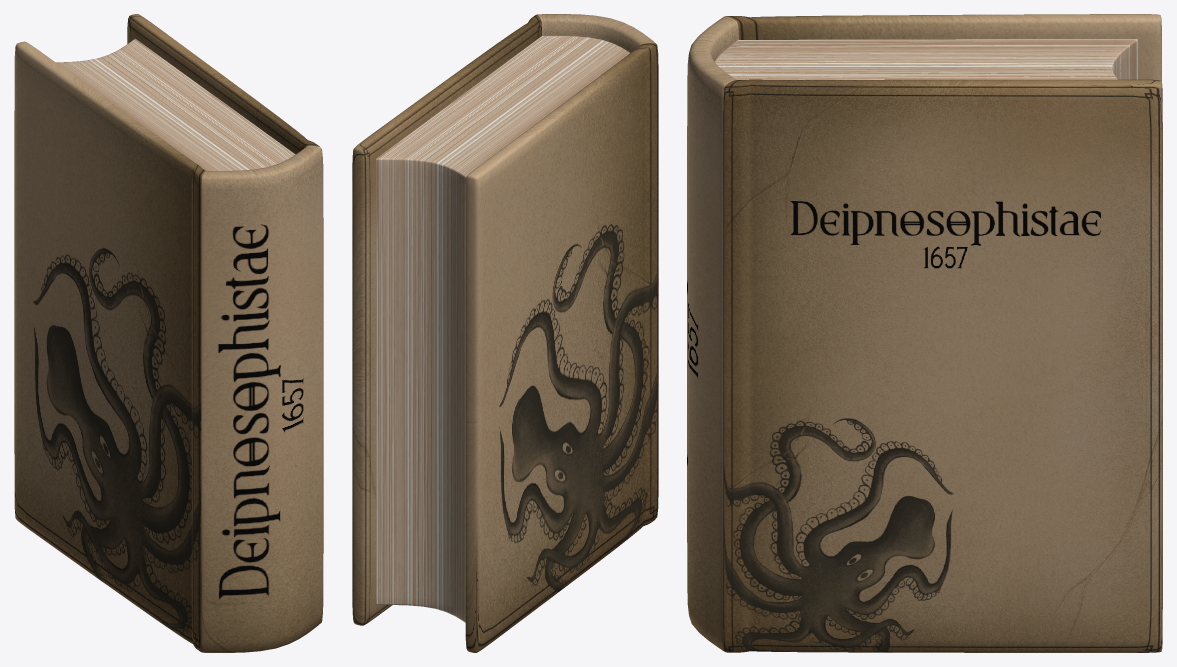
The model's file is book-7.glb.
3 renders of one model, left to right at view 1: azimuth 30°, elevation 25°; view 2: azimuth 150°, elevation 25°; view 3: azimuth 270°, elevation 25°, orthographic. The views are drawn at different scales.
Visible parts, largest first — view 1: Deipnosophistae, Book Pages.007; view 2: Deipnosophistae, Book Pages.007; view 3: Deipnosophistae, Book Pages.007.
Part boxes in pixels (x1,y1,x2,y2): Deipnosophistae: (14,14,323,652); Book Pages.007: (56,38,295,170); Deipnosophistae: (352,14,658,652); Book Pages.007: (376,36,629,622); Deipnosophistae: (687,14,1162,652); Book Pages.007: (715,39,1137,79).
Bounding box in the file's own units: 0.2944 × 1.05 × 0.793.
Materials: 2 (2 with a texture image).
